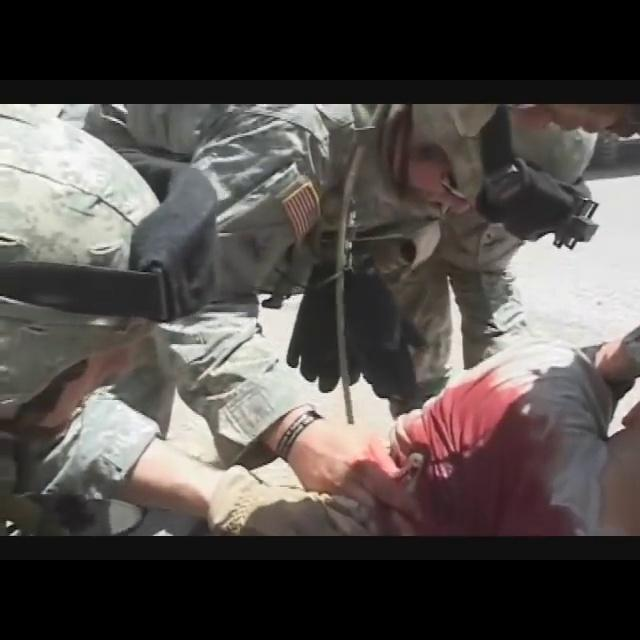blood: (392, 371, 582, 536)
